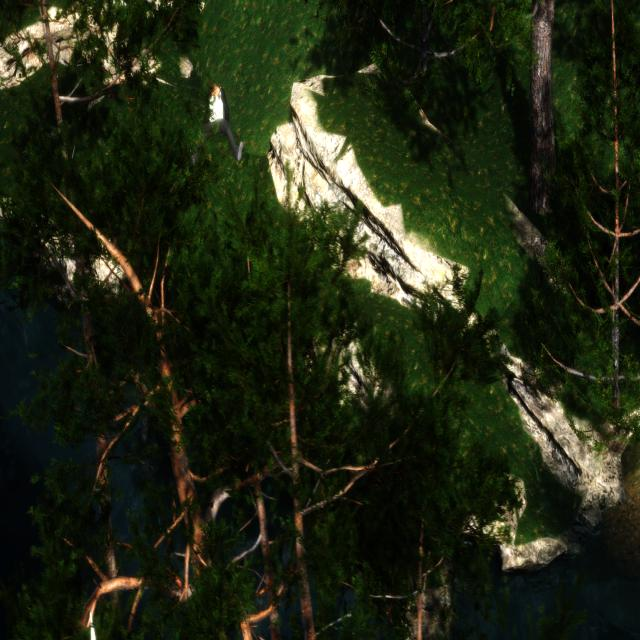Human: (184, 79, 247, 166)
